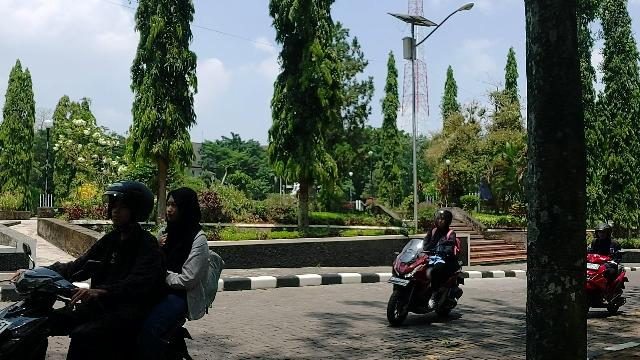helm: (104, 183, 154, 226), (437, 212, 454, 229), (597, 225, 613, 242)
motor: (2, 270, 196, 360), (389, 241, 470, 328), (588, 255, 630, 317)
non-helm: (166, 188, 200, 224)
